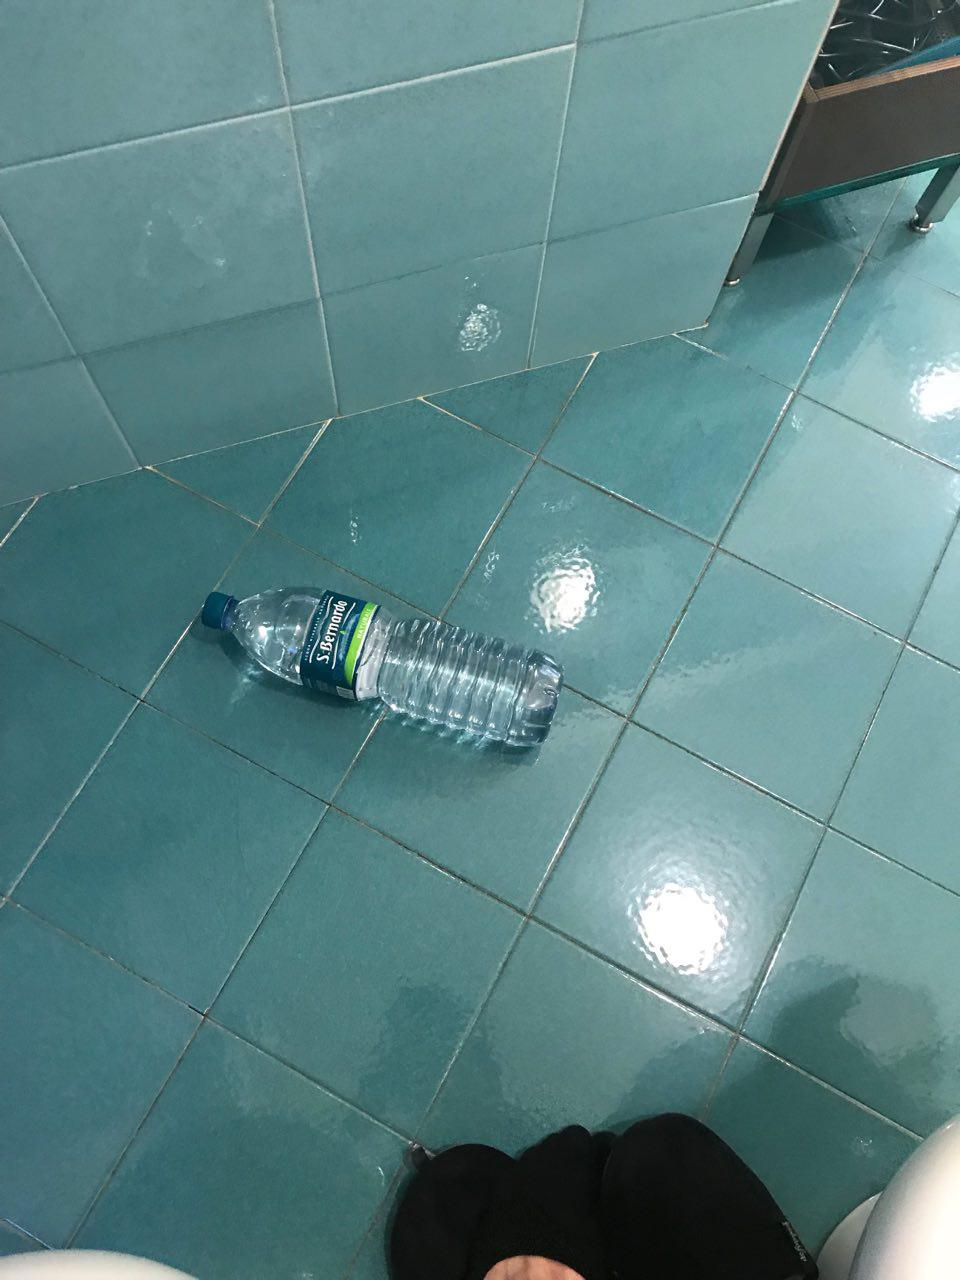san_bernardo: (200, 583, 564, 748)
